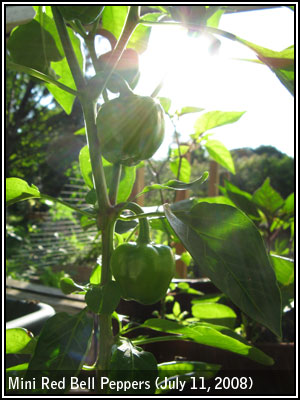capsicum: (106, 205, 176, 314), (95, 79, 165, 169), (93, 45, 140, 93), (55, 2, 104, 24)
